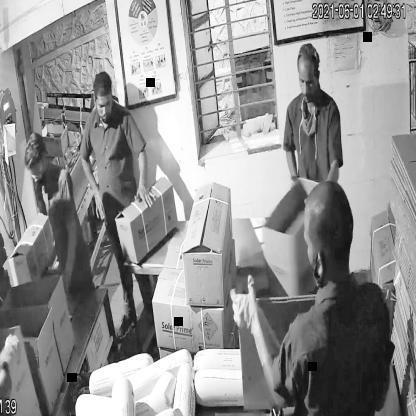no_goggles: (91, 93, 117, 118), (295, 69, 321, 90)
